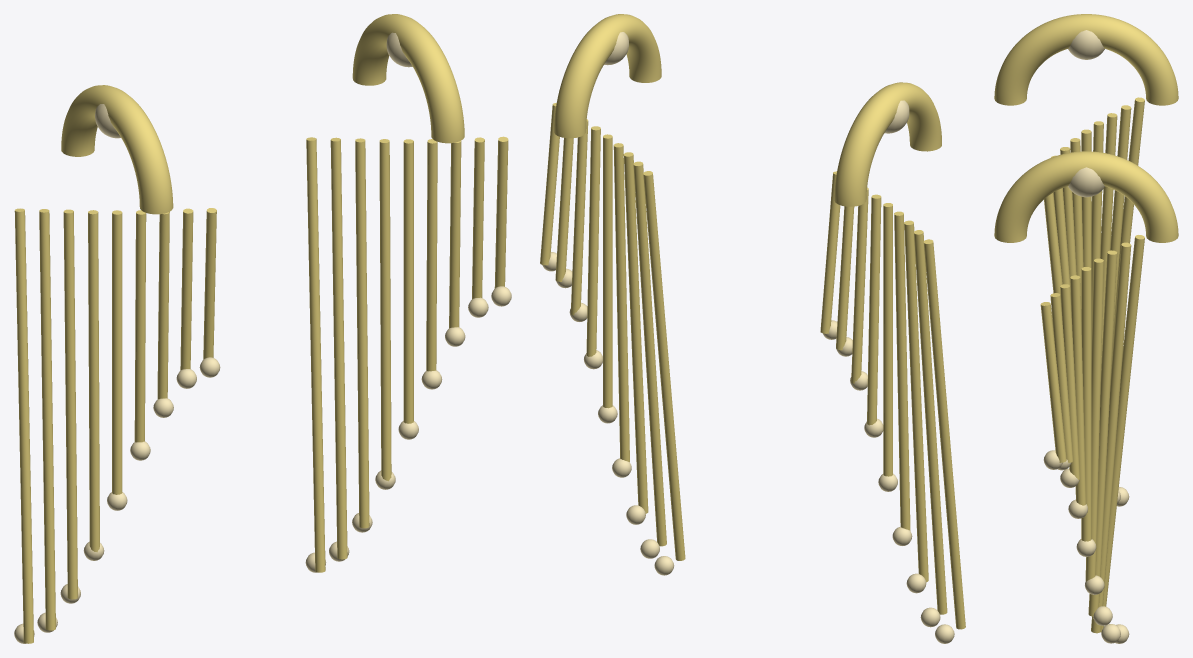
Rendered from ganga-cascade-earrings.glb.
3 views of the same model, side by side, from view 1: azimuth 30°, elevation 25°; view 2: azimuth 150°, elevation 25°; view 3: azimuth 270°, elevation 25° (orthographic). The views are drawn at different scales.
Parts seen in each view (by area): view 1: ganga-cascade-earrings; view 2: ganga-cascade-earrings; view 3: ganga-cascade-earrings.
Boxes of the visible parts, box(x1,y1,x2,y2) form: ganga-cascade-earrings: box(14, 14, 511, 643); ganga-cascade-earrings: box(540, 14, 965, 643); ganga-cascade-earrings: box(994, 14, 1178, 643).
Size of the model in its own units: 3.02 by 3.4 by 1.08.
